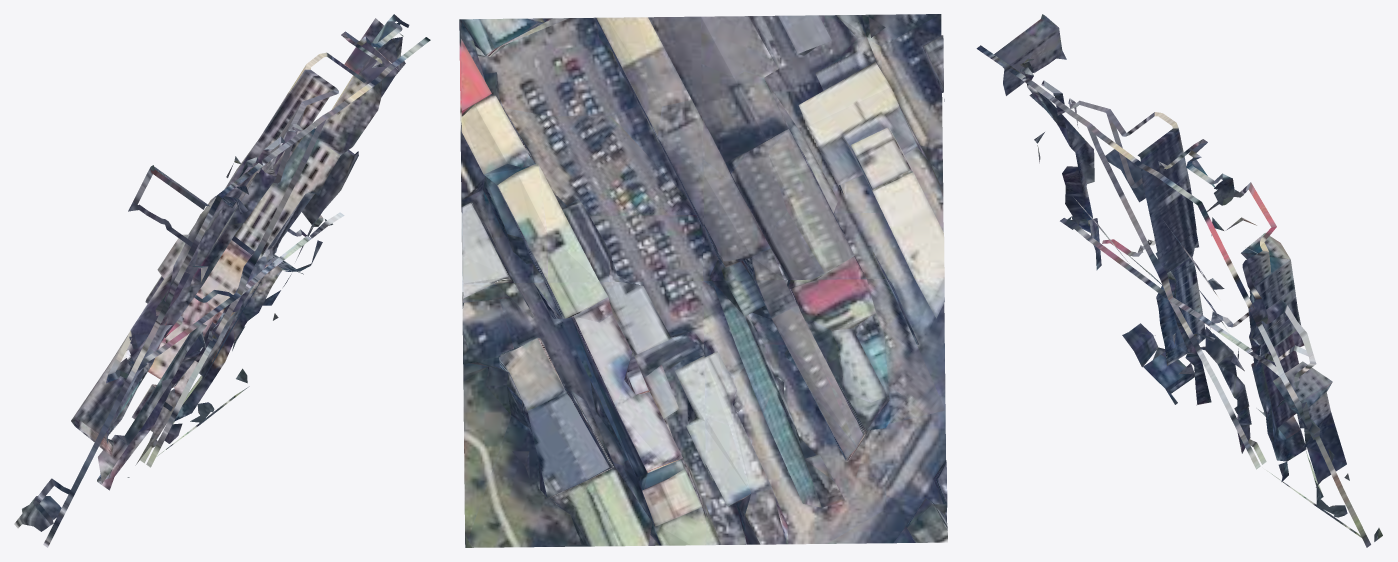
3 renders of one model, left to right at view 1: azimuth 30°, elevation 25°; view 2: azimuth 150°, elevation 25°; view 3: azimuth 270°, elevation 25°, orthographic. The views are drawn at different scales.
Bounding box in the file's own units: 159 × 147 × 132.
Materials: 1 (1 with a texture image).
